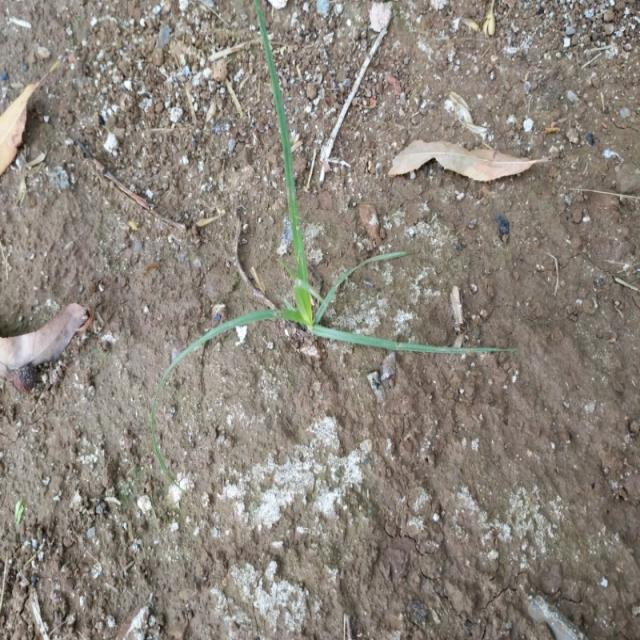sedge: (151, 61, 479, 427)
